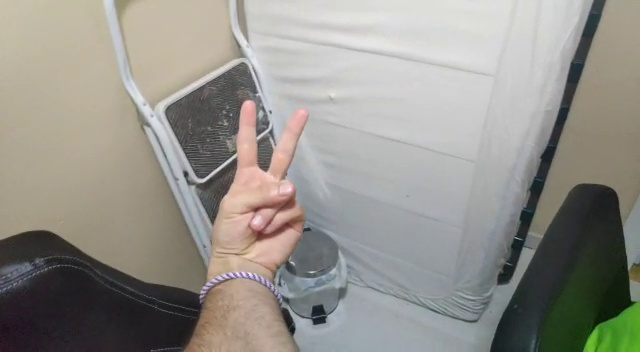Peace: (208, 95, 319, 262)
